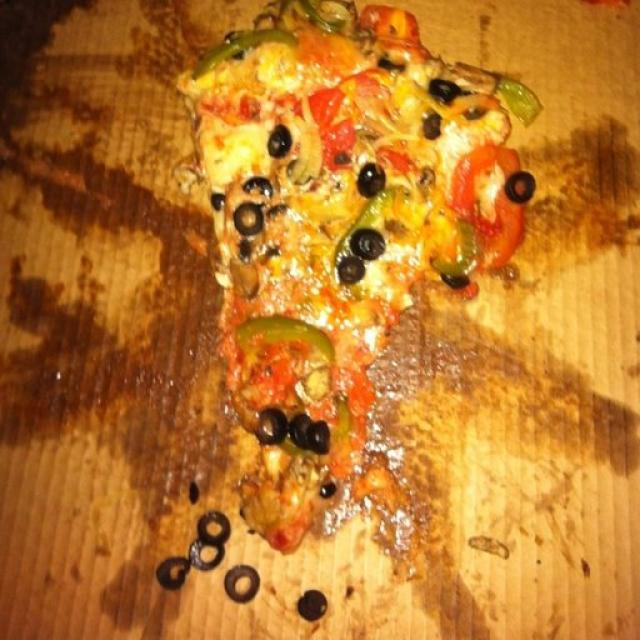Green Pepper: (231, 313, 341, 364), (196, 28, 302, 80), (428, 218, 488, 286), (494, 72, 547, 121)
Olives: (222, 563, 258, 602), (295, 586, 330, 622), (255, 404, 286, 442), (197, 512, 232, 545), (232, 203, 265, 237), (185, 541, 225, 569), (355, 160, 385, 197), (156, 558, 188, 590), (306, 416, 331, 454), (429, 76, 462, 104), (353, 228, 383, 258), (507, 171, 535, 203), (337, 255, 365, 283), (266, 124, 290, 155), (243, 176, 274, 200), (292, 411, 308, 445)
Onions: (286, 99, 322, 188), (373, 129, 419, 158)
Pizza: (176, 0, 542, 554)
Tomato: (451, 143, 524, 264), (309, 87, 367, 172)
